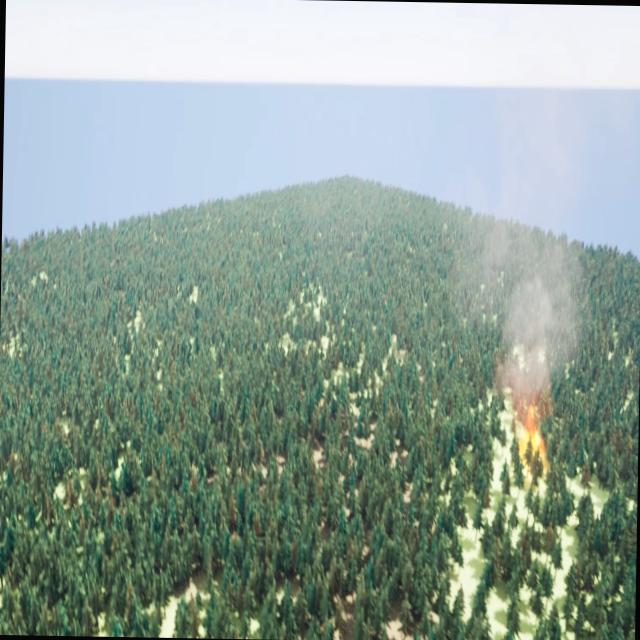fire: (514, 402, 548, 472)
smoke: (437, 180, 582, 404)
